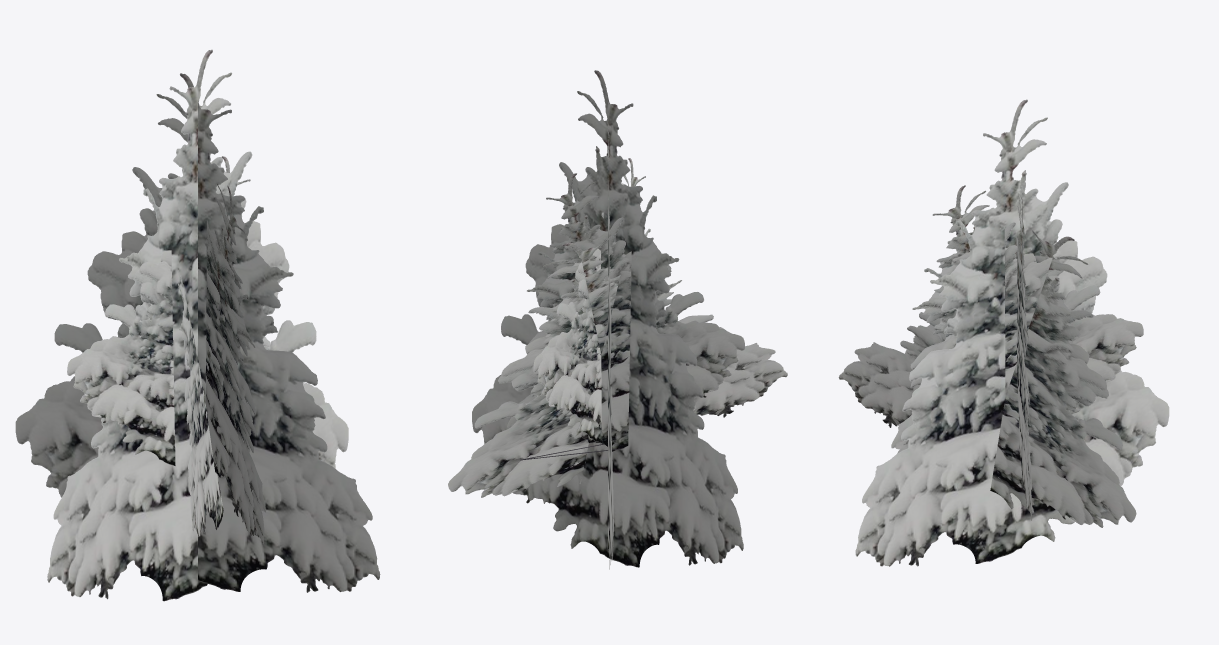
The model's file is pinheiro_neve.glb.
The picture shows the model from 3 angles, left to right: view 1: azimuth 30°, elevation 25°; view 2: azimuth 150°, elevation 25°; view 3: azimuth 270°, elevation 25°; orthographic projection. The views are drawn at different scales.
Visible parts, largest first — view 1: pinheiro_neve; view 2: pinheiro_neve; view 3: pinheiro_neve.
Boxes of the visible parts, <box> form: pinheiro_neve: <box>15,49,380,601</box>; pinheiro_neve: <box>448,70,787,569</box>; pinheiro_neve: <box>838,99,1169,566</box>.
Size of the model in its own units: 6.27 by 10 by 7.15.
Materials: 1 (1 with a texture image).
